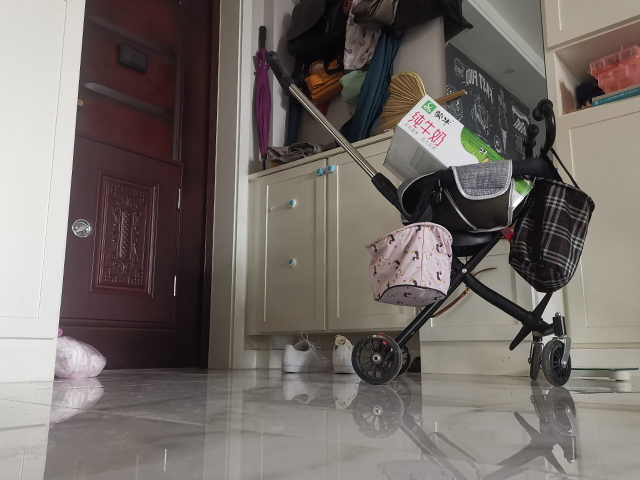cabinet: (243, 126, 640, 387)
